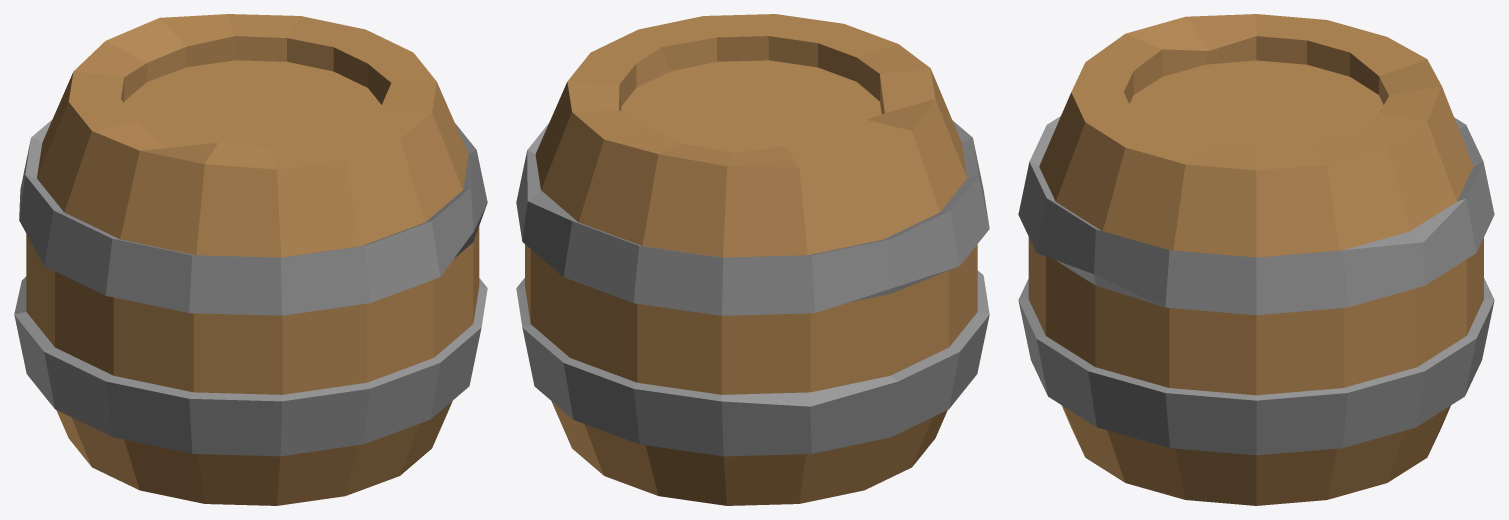
The model's file is Barrel.glb.
3 renders of one model, left to right at view 1: azimuth 30°, elevation 25°; view 2: azimuth 150°, elevation 25°; view 3: azimuth 270°, elevation 25°, orthographic.
Visible parts, largest first — view 1: Cylinder; view 2: Cylinder; view 3: Cylinder.
Part boxes in pixels (x1,y1,x2,y2): Cylinder: (14, 14, 487, 505); Cylinder: (516, 14, 989, 505); Cylinder: (1018, 14, 1494, 505).
Bounding box in the file's own units: 2.57 × 2.03 × 2.57.
